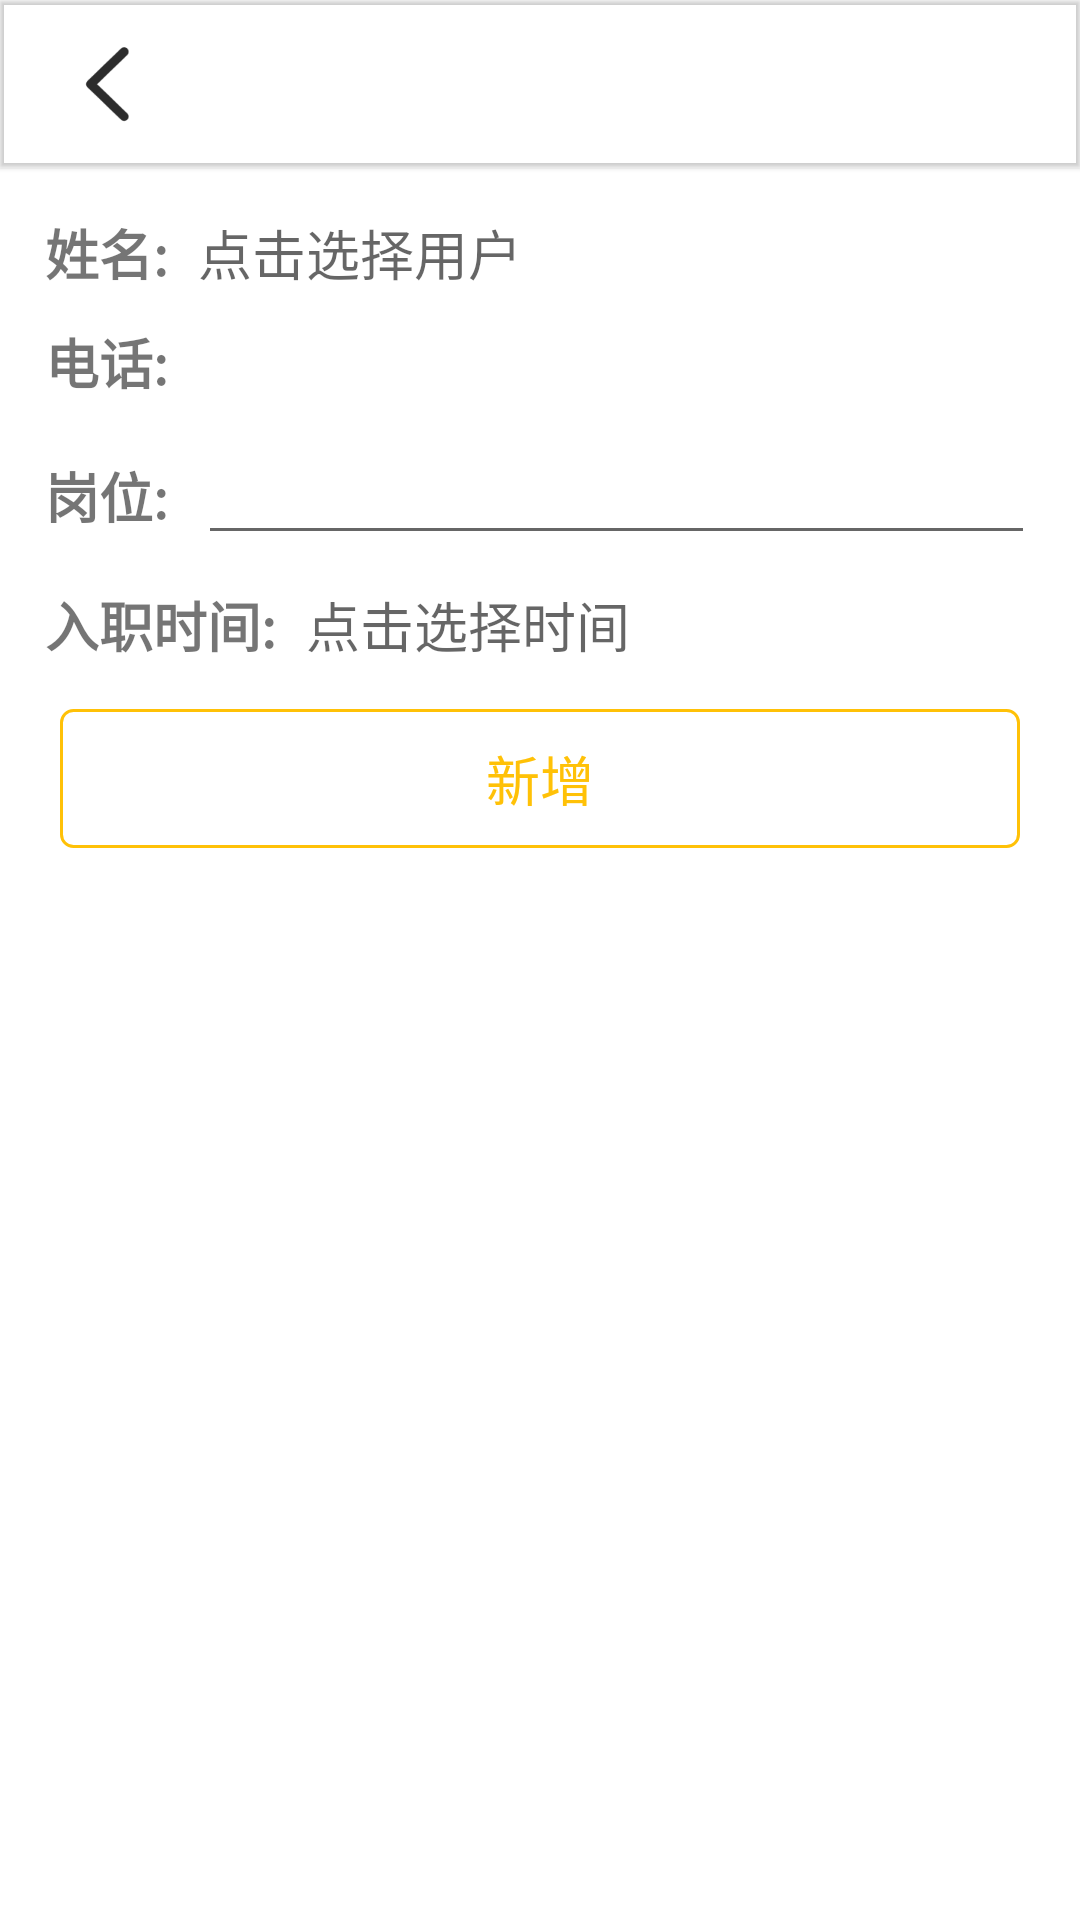

Locate icon controls on the screen. Image size 1080×1920, boxes as [x1,y1,x2,y2].
back: [86,47,129,121]
